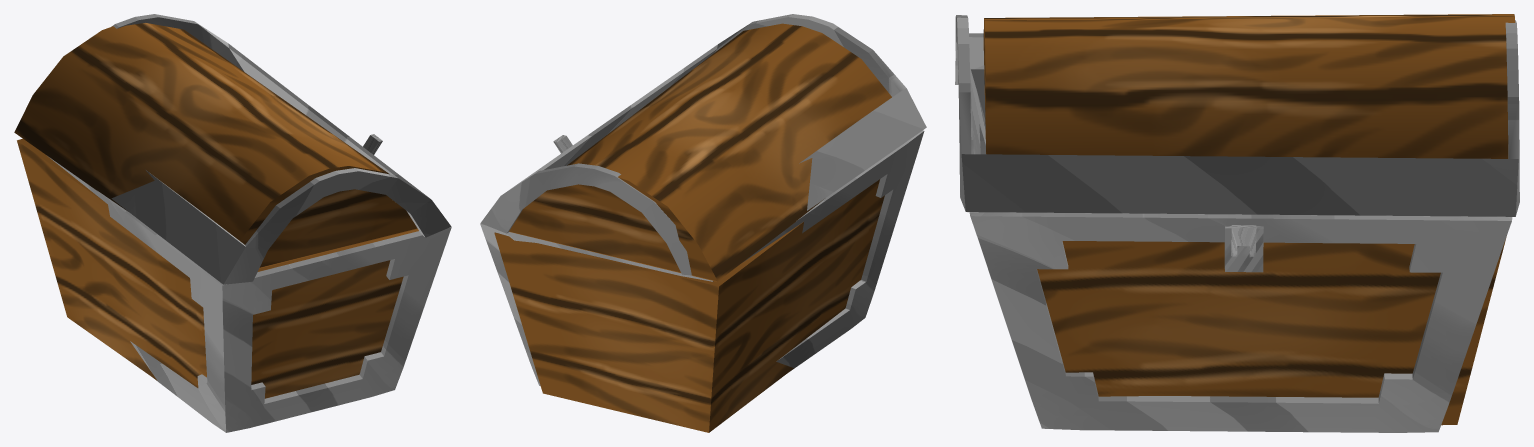
Rendered from Chest.FBX.
3 views of the same model, side by side, from view 1: azimuth 30°, elevation 25°; view 2: azimuth 150°, elevation 25°; view 3: azimuth 270°, elevation 25° (orthographic). The views are drawn at different scales.
Visible parts, largest first — view 1: Chest; view 2: Chest; view 3: Chest.
Boxes of the visible parts, x1,y1,x2,y2 form: Chest: (14, 14, 451, 432); Chest: (480, 14, 926, 432); Chest: (955, 14, 1519, 432).
Size of the model in its own units: 130 by 182 by 123.
2 materials, 2 textured.
